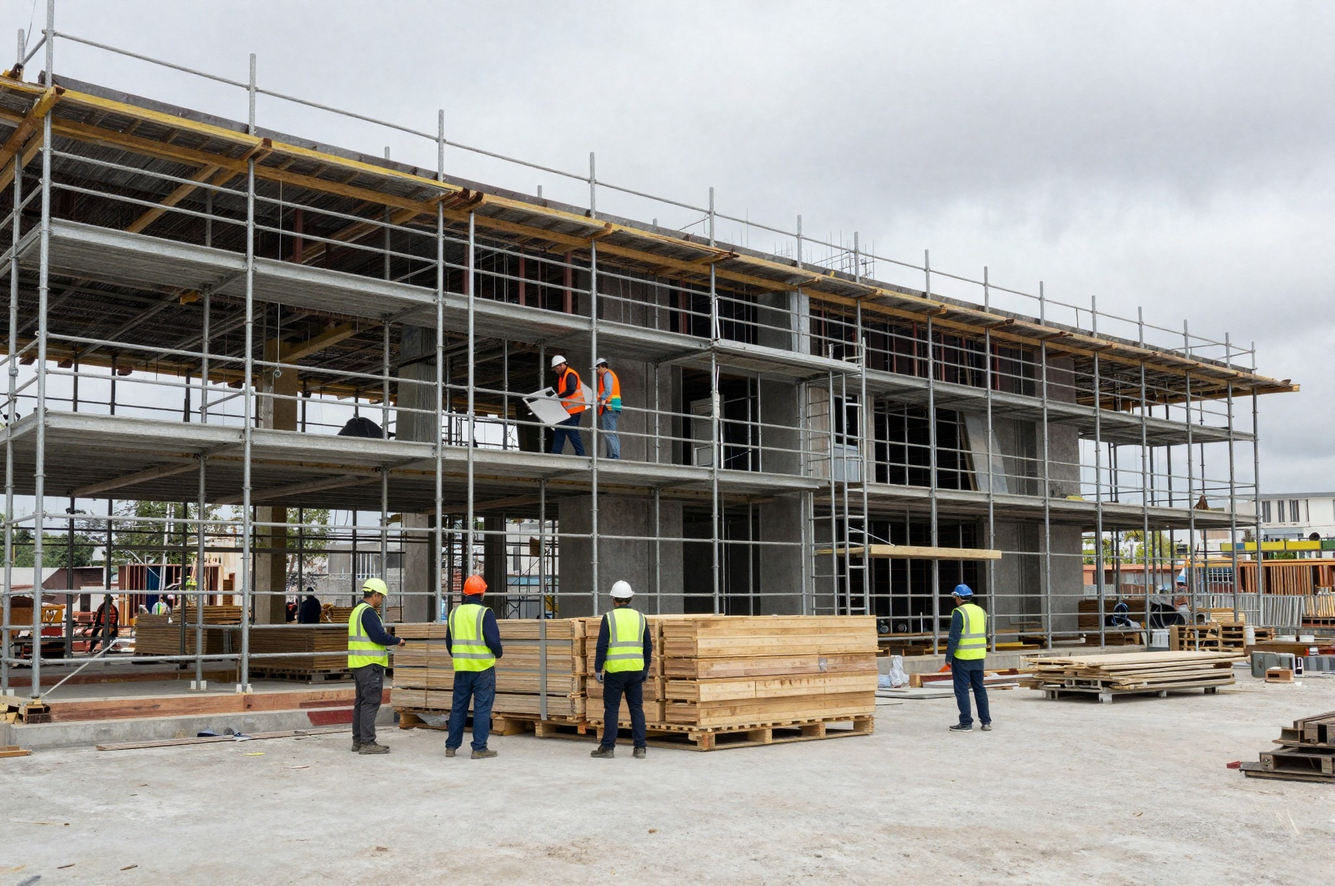helmet: (609, 571, 639, 608), (458, 565, 493, 595), (946, 575, 975, 597), (548, 350, 569, 368), (590, 351, 606, 366)
vests: (442, 602, 509, 677), (593, 606, 662, 677), (343, 594, 401, 670), (944, 599, 994, 662), (551, 370, 588, 415), (596, 370, 628, 419)
